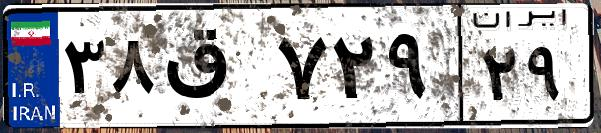2: (330, 28, 385, 110), (475, 38, 525, 113)
3: (57, 26, 110, 100)
7: (270, 28, 330, 110)
8: (110, 28, 158, 98)
9: (385, 28, 445, 110), (525, 38, 570, 115)
ق: (158, 20, 270, 120)
